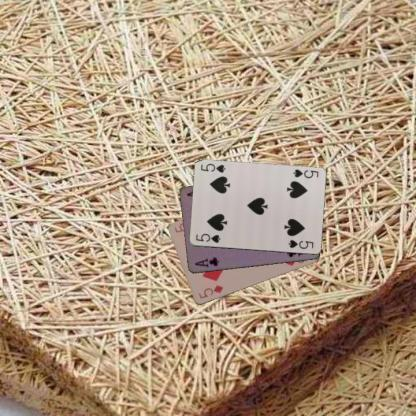5d: (196, 282, 224, 300)
5s: (290, 166, 320, 180), (193, 231, 221, 244)
Ac: (192, 254, 220, 269)
